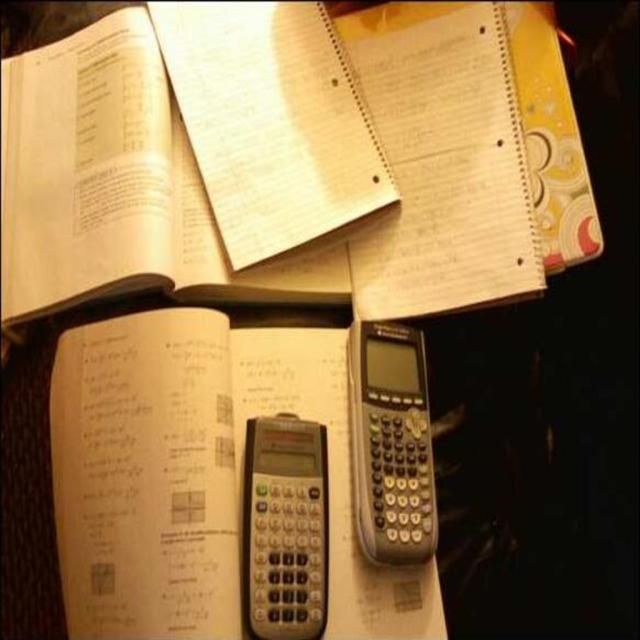Calculator: (350, 320, 441, 574), (350, 318, 438, 574), (245, 408, 331, 639)
